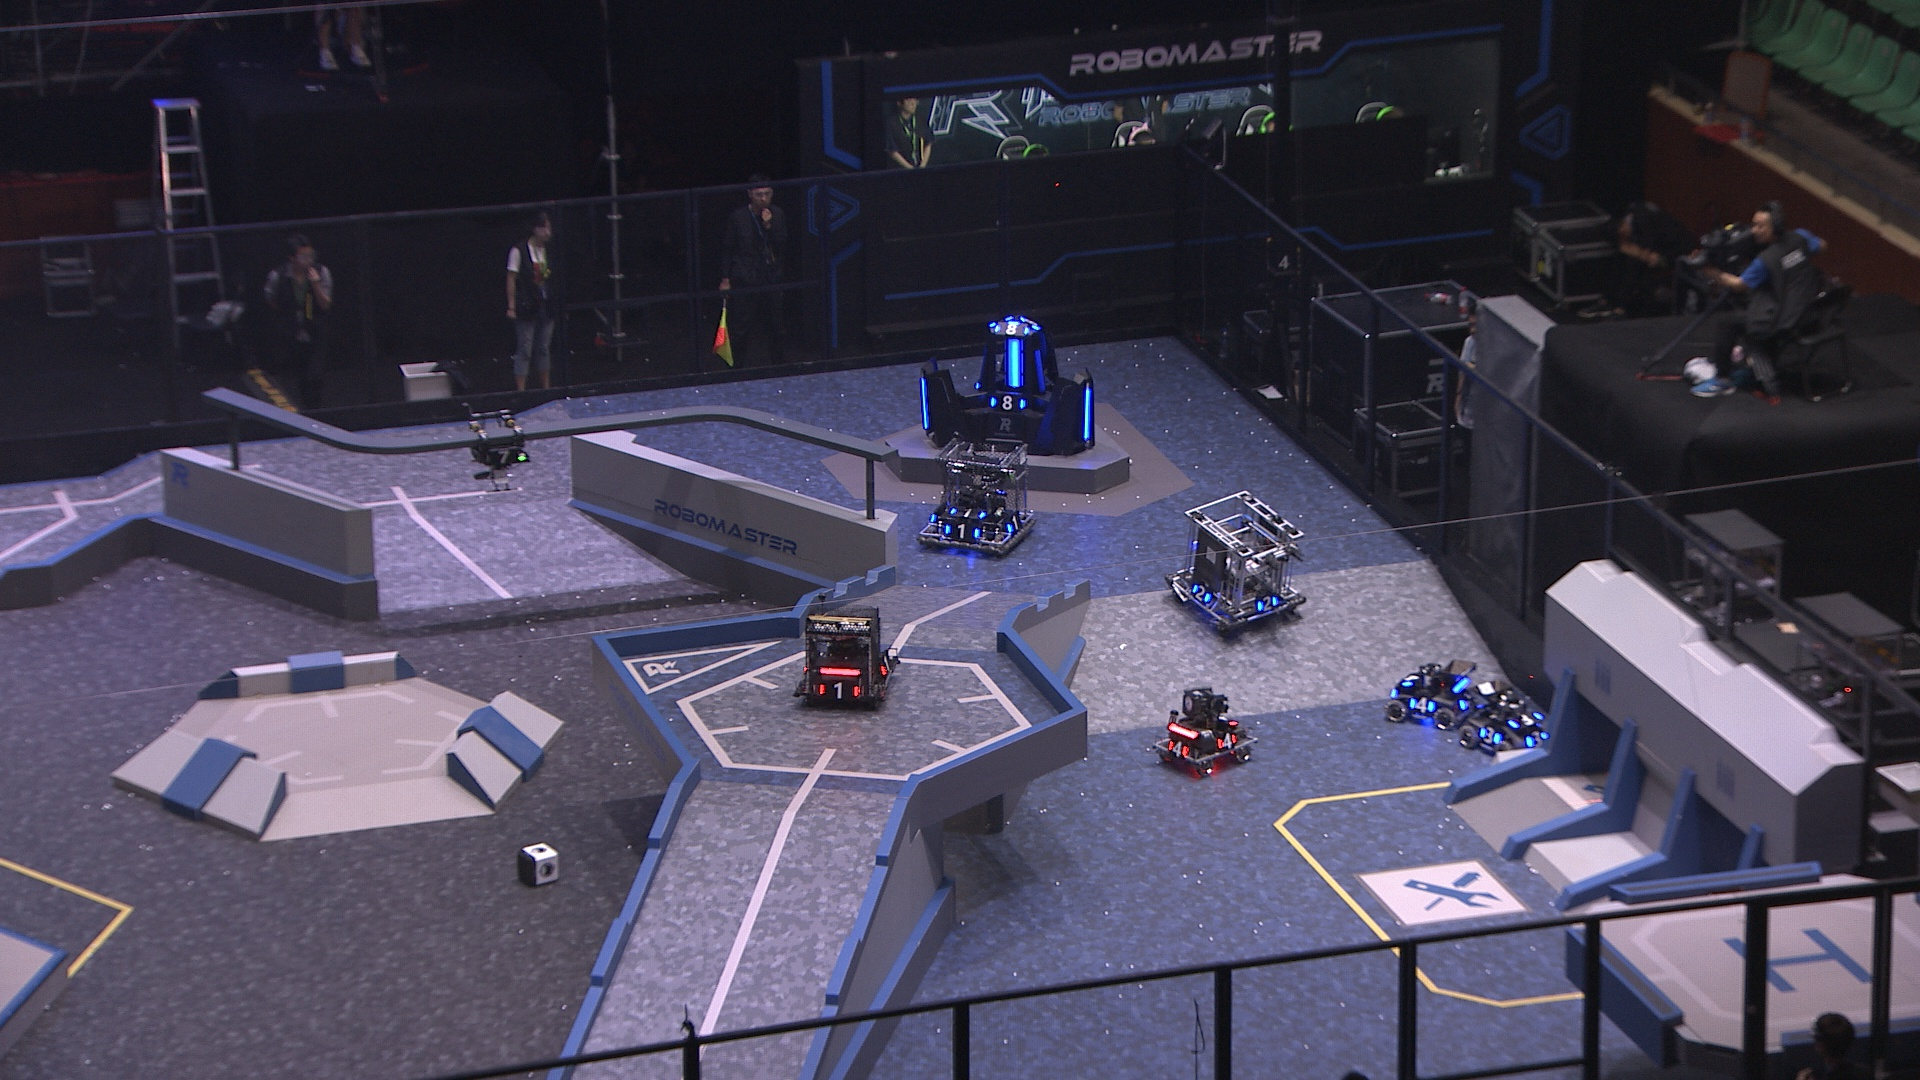armor: (1004, 339, 1027, 394), (816, 679, 862, 700), (1506, 708, 1548, 731), (487, 448, 527, 469), (945, 502, 986, 522), (942, 524, 982, 543), (988, 392, 1027, 411), (1029, 347, 1044, 394), (1081, 386, 1095, 443), (916, 376, 930, 431), (992, 320, 1031, 338), (877, 647, 898, 679), (1476, 723, 1503, 746), (1253, 591, 1280, 615), (1211, 709, 1240, 731), (1166, 736, 1191, 760), (1523, 728, 1551, 749), (1408, 698, 1437, 716), (1002, 512, 1025, 535), (1215, 732, 1238, 754), (1191, 582, 1212, 605), (1456, 688, 1476, 711), (1400, 670, 1422, 688), (1019, 316, 1040, 330)
base: (909, 313, 1098, 458)
car: (1164, 491, 1307, 628), (913, 431, 1043, 556), (793, 593, 901, 712), (1149, 684, 1259, 777), (1385, 659, 1495, 733), (1460, 680, 1557, 757)
watcher: (462, 400, 531, 491)
